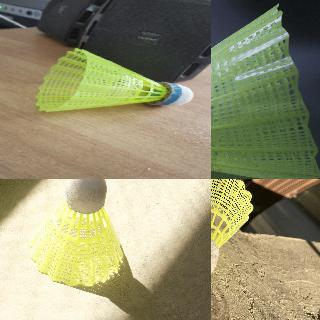shuttlecock: (211, 2, 319, 178), (35, 47, 192, 112), (29, 179, 123, 287), (211, 179, 253, 279)
